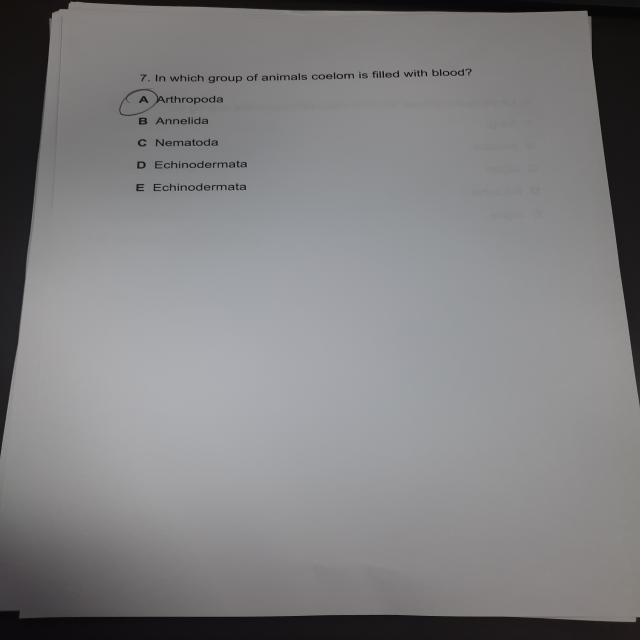A: (117, 88, 163, 120)
